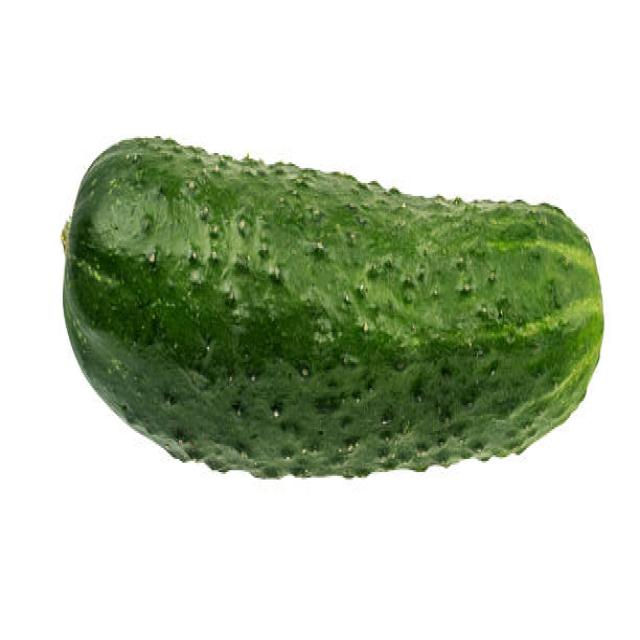cucumber: (62, 135, 605, 482)
